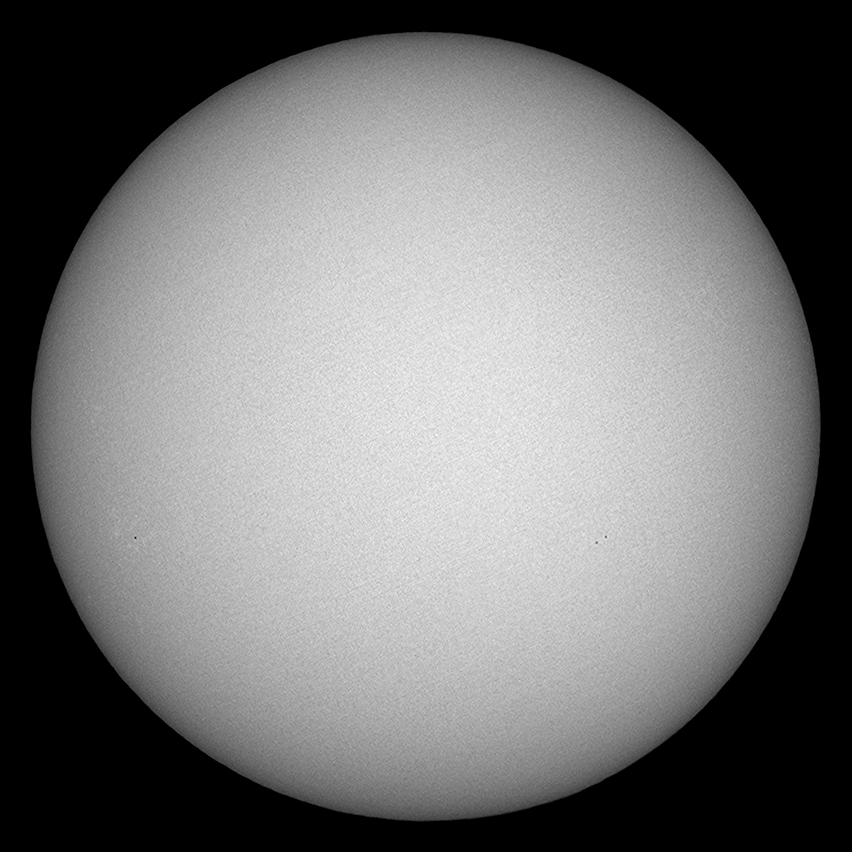sunspot: (592, 533, 612, 547)
